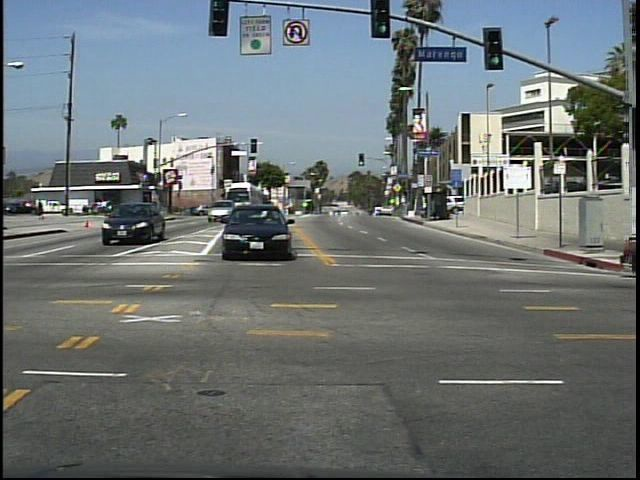person: (34, 194, 50, 223)
